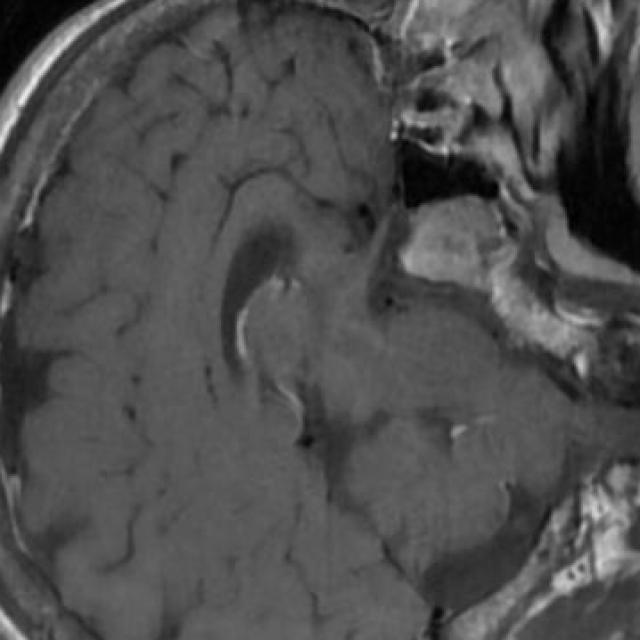pituitary: (403, 194, 505, 287)
